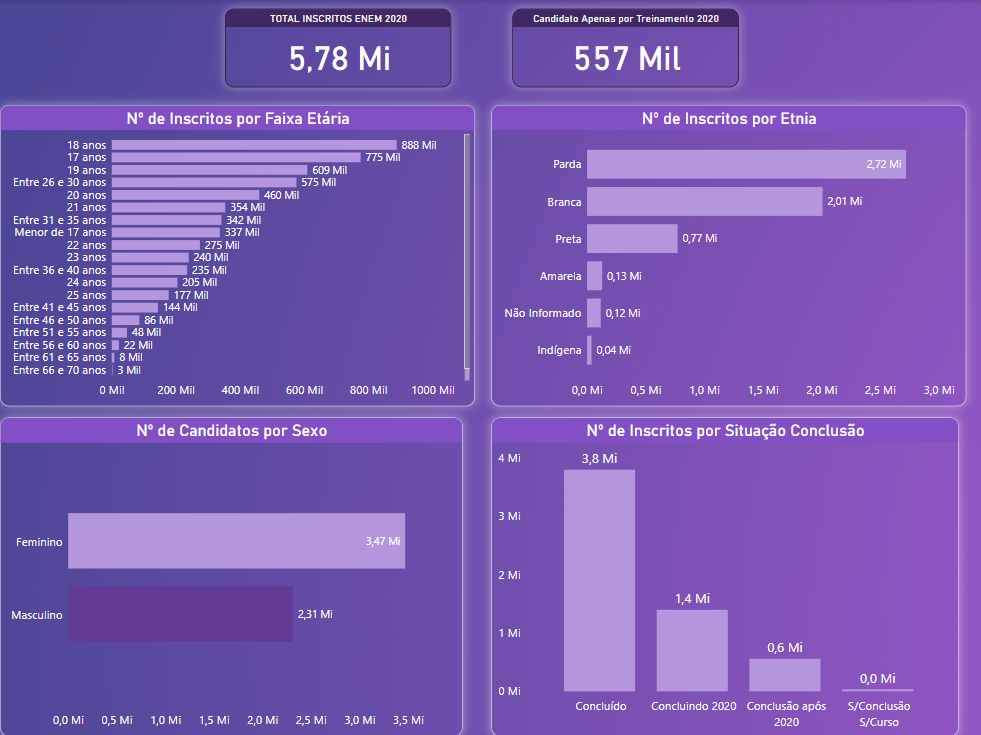

Layout of this report page (visuals, bound fields, positions):
{"tool":"powerbi","page":{"name":"Informações Candidato","canvas":[1600,1200],"ordinal":1},"visuals":[{"type":"barChart","title":"Nº de Inscritos por Faixa Etária","fields":{"Category":["public dim_candidato.faixa_etaria"],"Y":["public fat_notas.TOTAL_INSCRITOS"]},"box":[0,171.2,774.5,491.2],"z":1},{"type":"clusteredColumnChart","title":"Nº de Inscritos por Situação Conclusão","fields":{"Category":["public dim_candidato.st_conclusao"],"Y":["public fat_notas.TOTAL_INSCRITOS"]},"box":[801,680.7,762.2,519.7],"z":2},{"type":"barChart","title":"Nº de Inscritos por Etnia","fields":{"Y":["public fat_notas.TOTAL_INSCRITOS"],"Category":["public dim_candidato.etnia"]},"box":[801,171.2,774.5,491.2],"z":4},{"type":"card","title":"TOTAL INSCRITOS ENEM 2020","fields":{"Values":["public fat_notas.TOTAL_INSCRITOS"]},"box":[366.8,14.3,368.9,128.4],"z":5},{"type":"card","title":"Candidato Apenas por Treinamento 2020","fields":{"Values":["public fat_notas.ContagemTreineiros"]},"box":[835.6,14.3,368.9,128.4],"z":6},{"type":"barChart","title":"Nº de Candidatos por Sexo","fields":{"Category":["public dim_candidato.sexo"],"Y":["public fat_notas.TOTAL_INSCRITOS"]},"box":[0,680.7,754.1,519.7],"z":7}]}

Visuals, with their boxes in screenshot pixels (x1, y1, x2, y2), scaled from the page's 1600x1200 canvas onto the 981x735 screenshot:
"Nº de Inscritos por Faixa Etária" barChart: [x1=0, y1=105, x2=475, y2=406]
"Nº de Inscritos por Situação Conclusão" clusteredColumnChart: [x1=491, y1=417, x2=958, y2=734]
"Nº de Inscritos por Etnia" barChart: [x1=491, y1=105, x2=966, y2=406]
"TOTAL INSCRITOS ENEM 2020" card: [x1=225, y1=9, x2=451, y2=87]
"Candidato Apenas por Treinamento 2020" card: [x1=512, y1=9, x2=739, y2=87]
"Nº de Candidatos por Sexo" barChart: [x1=0, y1=417, x2=462, y2=734]
